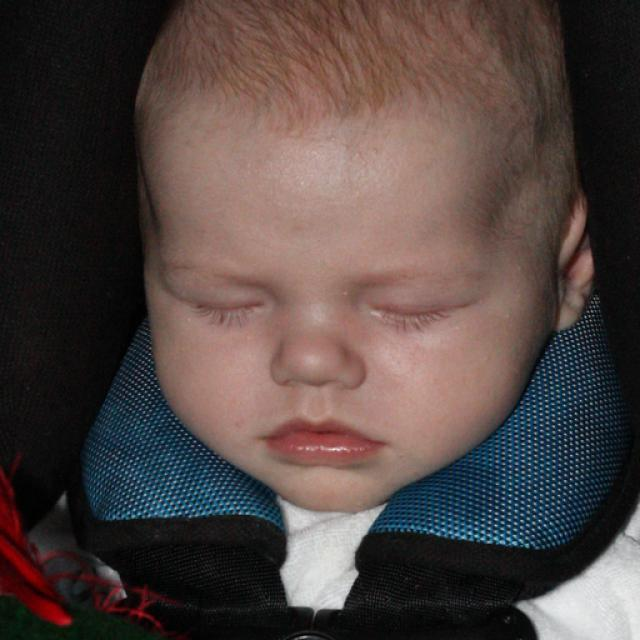sad: (145, 89, 538, 510)
